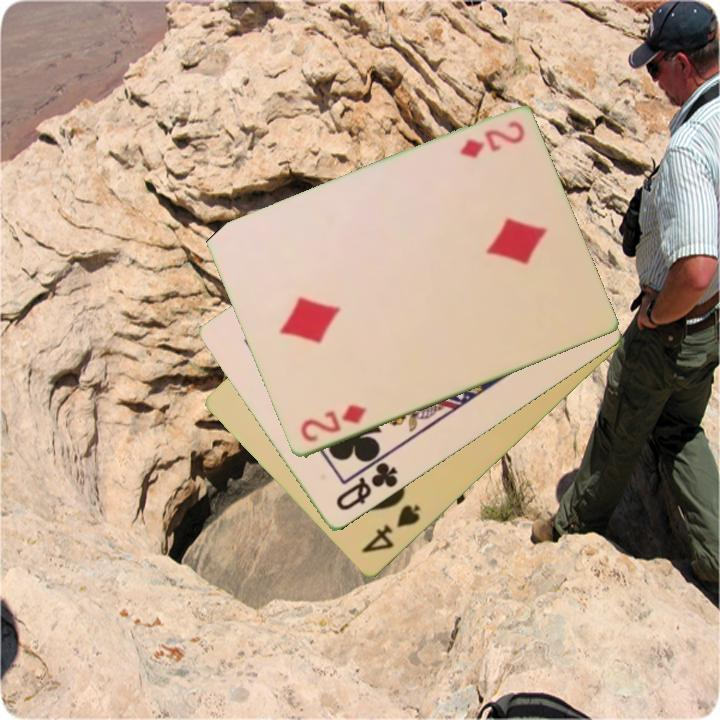2d: (297, 401, 369, 446), (456, 118, 528, 162)
4s: (358, 501, 424, 557)
Qc: (332, 459, 401, 515)
